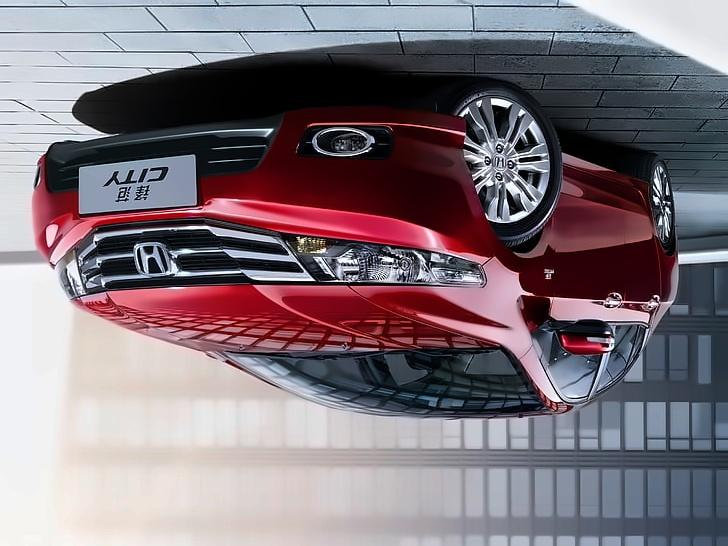Car hood: (72, 286, 500, 358)
Driver-s door - -F-R-: (527, 133, 632, 420)
Fender - -F-R-: (354, 177, 566, 359)
Front bumper: (26, 113, 498, 270)
Headlight - -L-: (52, 244, 94, 304)
Headlight - -R-: (276, 235, 485, 287)
Passenger-s door - -R-R-: (574, 154, 660, 415)
Side bumper - -R-: (547, 134, 662, 231)
Side mirror - -R-: (542, 316, 616, 357)
